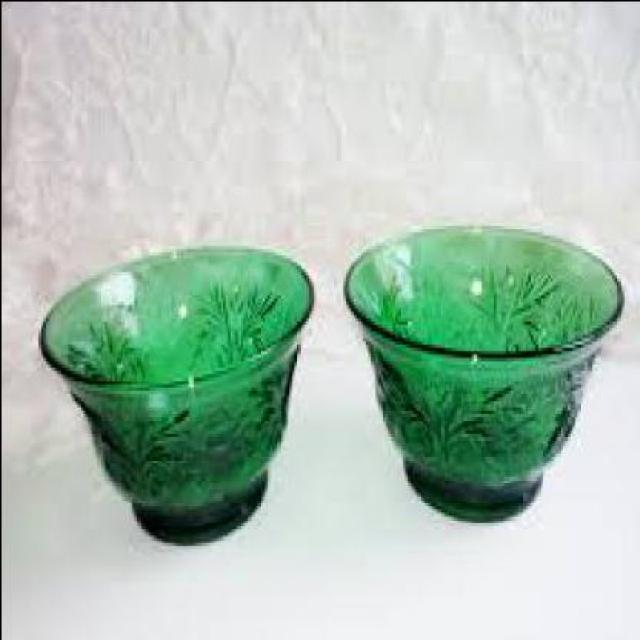GLASS: (345, 220, 623, 518), (39, 244, 315, 541)
